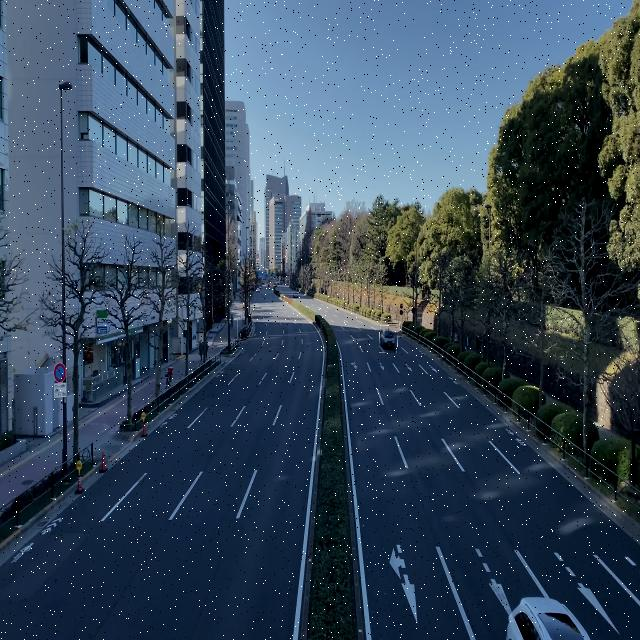Car: (379, 326, 398, 353)
